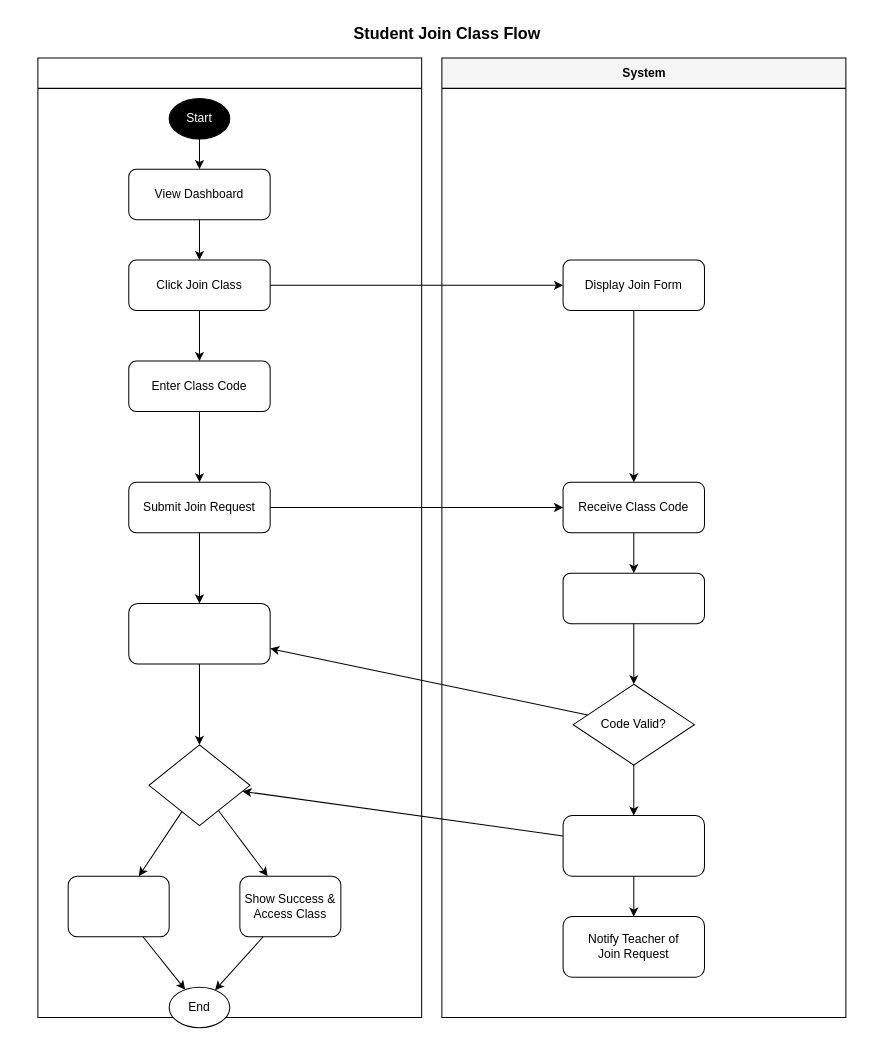
This 893x1045 diagram has some shape labels left out. Each missing label, with the box of its shape:
Approved?: (148, 744, 250, 826)
Show Rejection Message: (67, 875, 169, 937)
Store Join Request (Pending): (562, 815, 704, 876)
Student: (37, 57, 422, 1018)
Validate Class Code: (562, 572, 704, 624)
Wait for Teacher Approval: (128, 602, 270, 664)
